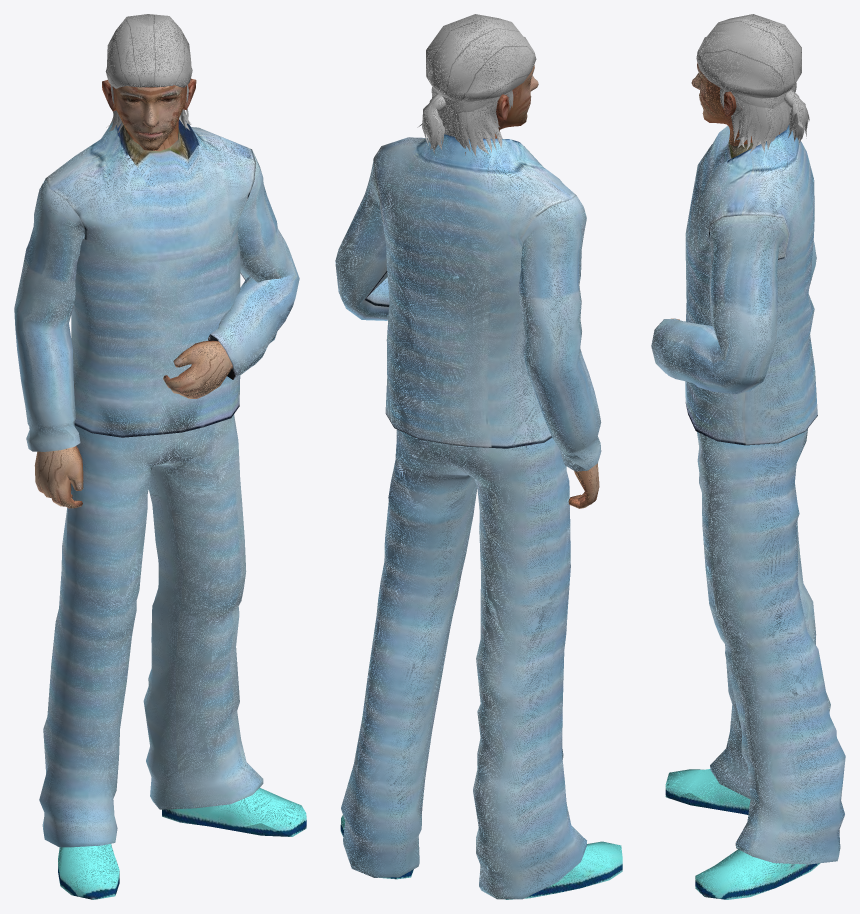
File: elder.obj
3 renders of one model, left to right at view 1: azimuth 30°, elevation 25°; view 2: azimuth 150°, elevation 25°; view 3: azimuth 270°, elevation 25°, orthographic. The views are drawn at different scales.
Visible parts, largest first — view 1: 1, 4, 27, 2, 5, 6, 7, 9; view 2: 4, 1, 27, 6, 17, 2, 9, 21, 12, 10; view 3: 4, 1, 27, 5, 6, 2, 19, 12, 21, 10.
Boxes of the visible parts, x1=… form: 1: x1=14, y1=119, x2=299, y2=451; 4: x1=39, y1=414, x2=263, y2=847; 27: x1=105, y1=14, x2=192, y2=88; 2: x1=102, y1=78, x2=196, y2=151; 5: x1=162, y1=788, x2=306, y2=836; 6: x1=58, y1=844, x2=119, y2=899; 7: x1=163, y1=340, x2=232, y2=398; 9: x1=34, y1=446, x2=83, y2=508; 4: x1=341, y1=429, x2=586, y2=899; 1: x1=335, y1=134, x2=601, y2=471; 27: x1=426, y1=14, x2=536, y2=102; 6: x1=505, y1=841, x2=622, y2=899; 17: x1=443, y1=96, x2=500, y2=155; 2: x1=484, y1=65, x2=538, y2=138; 9: x1=568, y1=463, x2=599, y2=508; 21: x1=441, y1=108, x2=502, y2=154; 12: x1=431, y1=87, x2=513, y2=112; 10: x1=417, y1=94, x2=445, y2=149; 4: x1=697, y1=428, x2=845, y2=864; 1: x1=651, y1=124, x2=817, y2=445; 27: x1=696, y1=14, x2=801, y2=98; 5: x1=695, y1=849, x2=819, y2=899; 6: x1=665, y1=769, x2=750, y2=814; 2: x1=691, y1=62, x2=779, y2=146; 19: x1=732, y1=94, x2=786, y2=152; 12: x1=719, y1=83, x2=796, y2=108; 21: x1=739, y1=103, x2=789, y2=152; 10: x1=784, y1=90, x2=809, y2=141.
Size of the model in its own units: 61.02 by 186 by 40.36.
5 materials, 4 textured.
